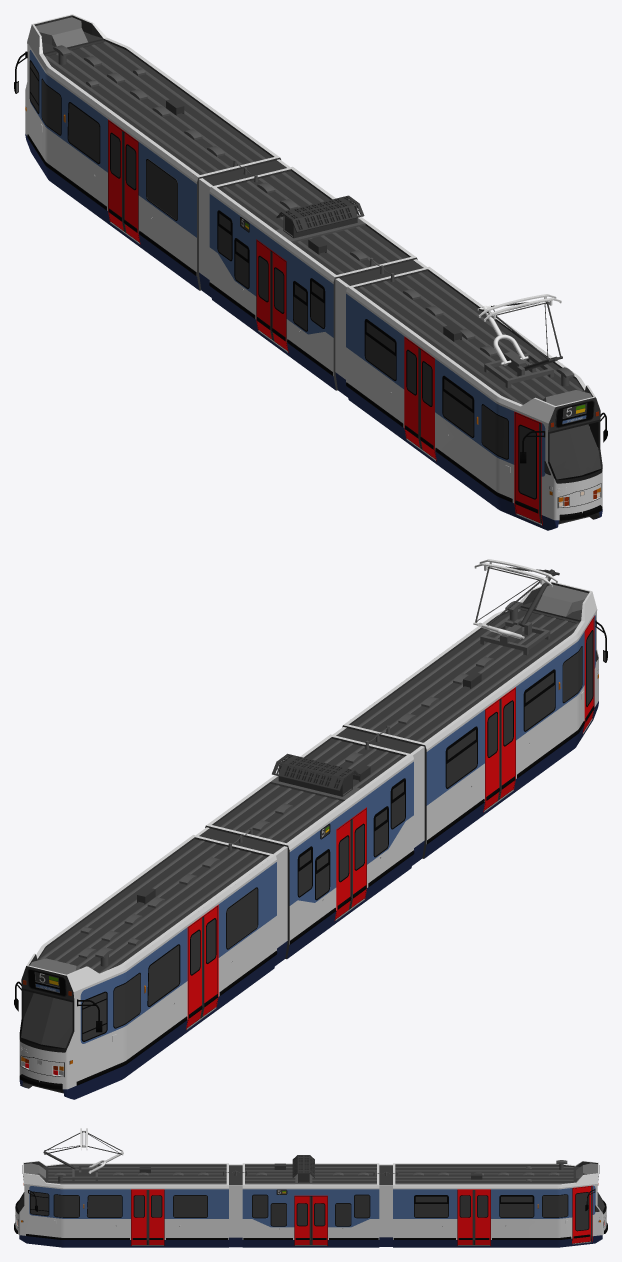
3 views of the same model, one above another, from view 1: azimuth 30°, elevation 25°; view 2: azimuth 150°, elevation 25°; view 3: azimuth 270°, elevation 25° (orthographic). The views are drawn at different scales.
Visible parts, largest first — view 1: Group_018, Group_020, Group_014, Layer0_001, Group_016, Group_012, Group_010; view 2: Group_020, Group_018, Group_014, Layer0_001, Group_016, Group_012, Group_010; view 3: Group_020, Group_018, Group_014, Layer0_001, Group_016, Group_012.
Part boxes in pixels (x1,y1,x2,y2): Group_018: [346, 266, 602, 530]; Group_020: [25, 14, 280, 290]; Group_014: [209, 166, 417, 390]; Layer0_001: [199, 159, 426, 397]; Group_016: [276, 195, 364, 238]; Group_012: [484, 352, 553, 388]; Group_010: [478, 294, 561, 321]; Group_020: [19, 835, 277, 1099]; Group_018: [342, 581, 598, 858]; Group_014: [205, 734, 414, 959]; Layer0_001: [196, 725, 424, 965]; Group_016: [272, 753, 359, 796]; Group_012: [480, 619, 550, 655]; Group_010: [474, 559, 557, 586]; Group_020: [393, 1160, 607, 1247]; Group_018: [14, 1161, 228, 1247]; Group_014: [242, 1163, 379, 1247]; Layer0_001: [223, 1164, 398, 1247]; Group_016: [292, 1155, 314, 1182]; Group_012: [72, 1165, 97, 1181].
Bounding box in the file's own units: 2540 × 5048 × 25924.
